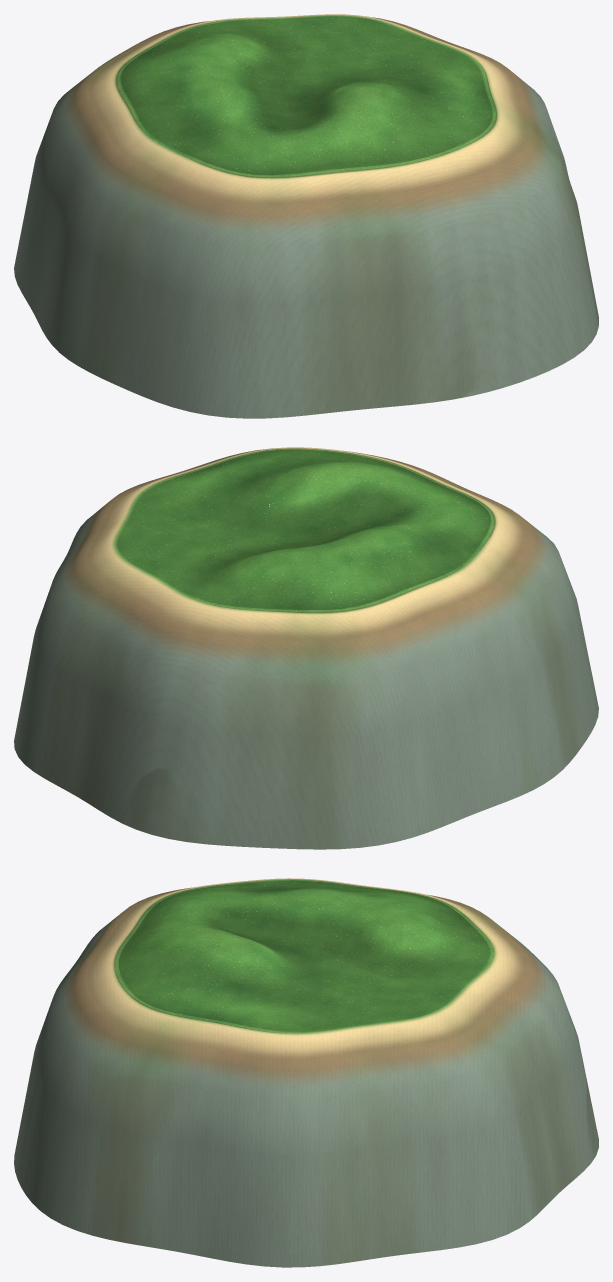
File: green_2.glb
3 renders of one model, top to bottom at view 1: azimuth 30°, elevation 25°; view 2: azimuth 150°, elevation 25°; view 3: azimuth 270°, elevation 25°, orthographic. The views are drawn at different scales.
Visible parts, largest first — view 1: green_2; view 2: green_2; view 3: green_2.
Boxes of the visible parts, box(x1,y1,x2,y2) form: green_2: box(14, 14, 598, 418); green_2: box(14, 447, 598, 849); green_2: box(14, 878, 598, 1267).
Bounding box in the file's own units: 30.69 × 13.29 × 31.94.
1 material, 1 textured.
